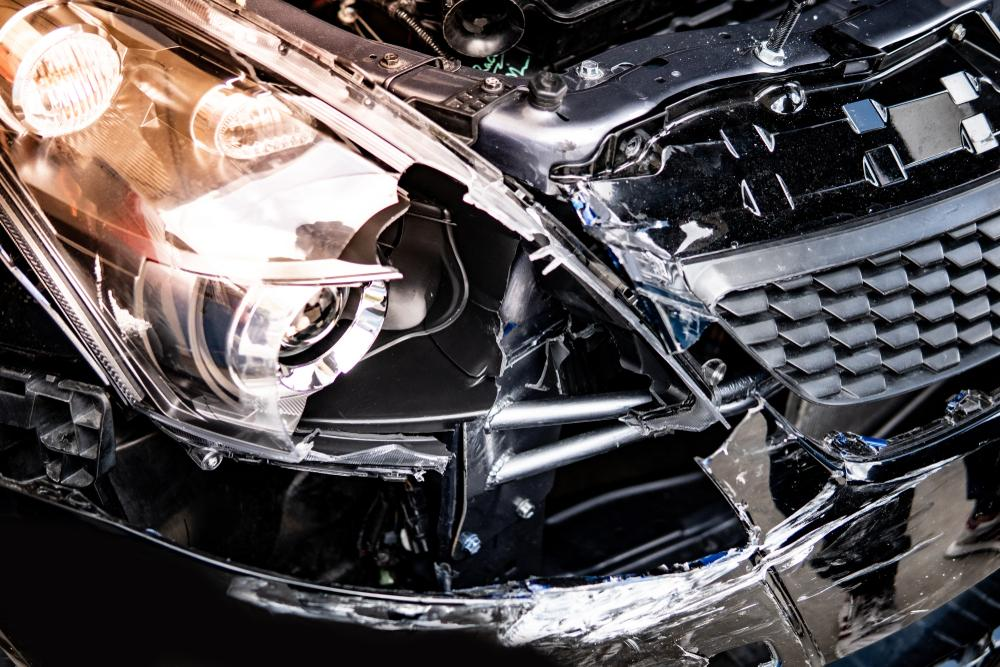crack: (444, 382, 500, 563)
lamp broken: (0, 0, 528, 458)
scratch: (229, 471, 951, 663)
